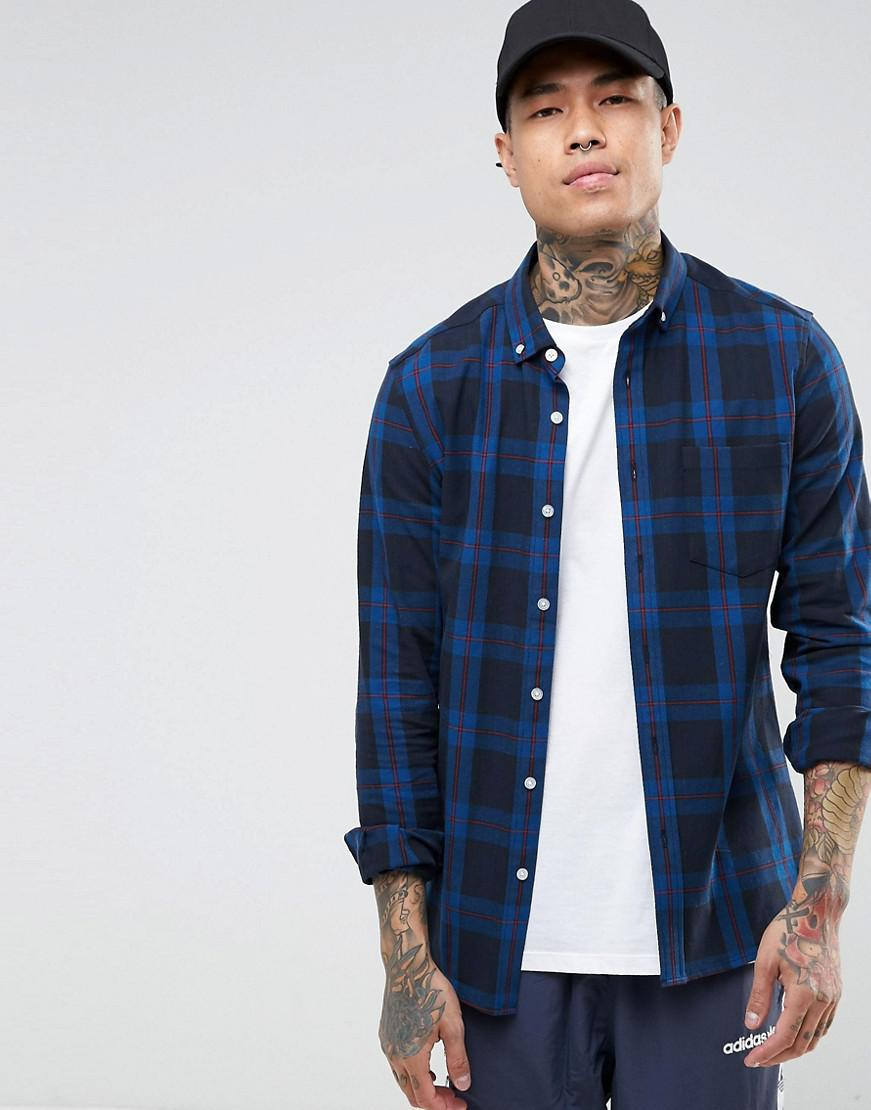teeshirt: (346, 225, 871, 1001)
